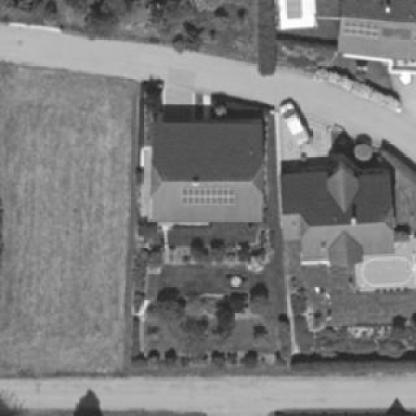solar-pv-panel: (182, 189, 234, 204), (343, 21, 379, 37)
